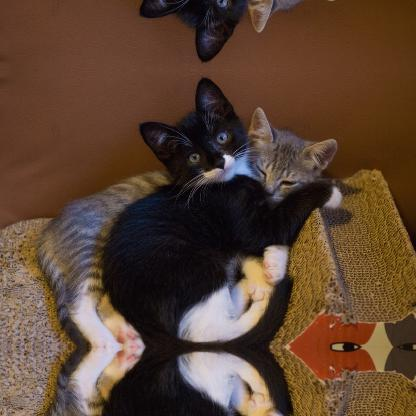Cat: (34, 104, 338, 344), (103, 72, 344, 346), (33, 348, 339, 415), (103, 346, 345, 415), (103, 0, 345, 66)
